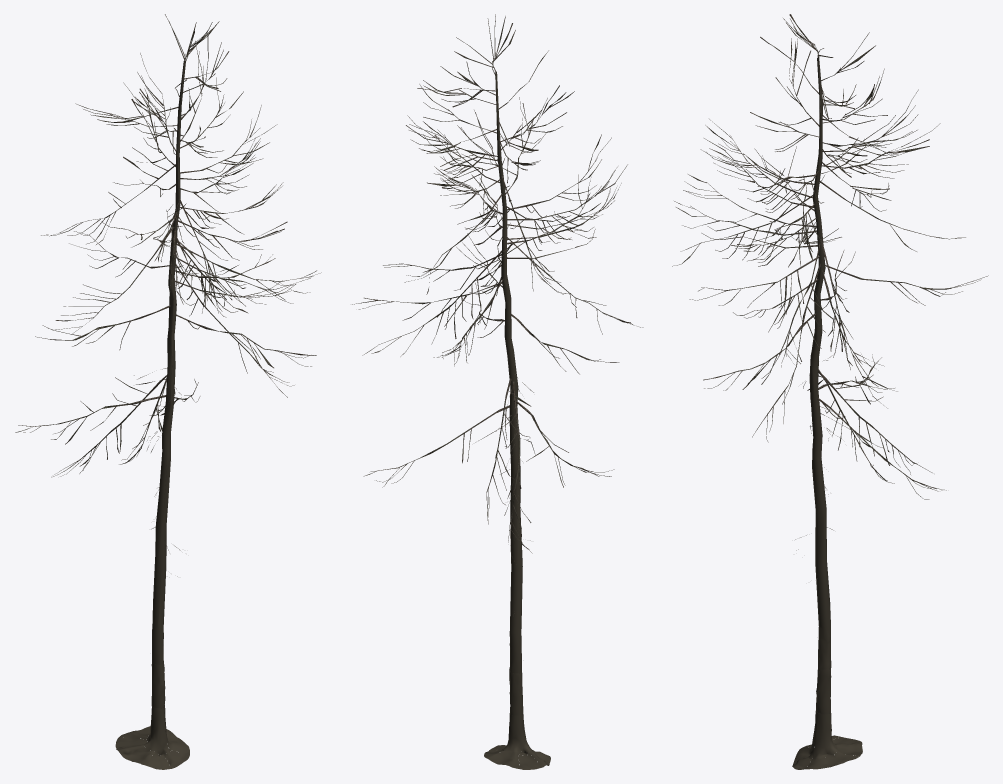
File: mature_fir.glb
3 renders of one model, left to right at view 1: azimuth 30°, elevation 25°; view 2: azimuth 150°, elevation 25°; view 3: azimuth 270°, elevation 25°, orthographic. The views are drawn at different scales.
Parts seen in each view (by area): view 1: fir_tree_01_c_LOD0; view 2: fir_tree_01_c_LOD0; view 3: fir_tree_01_c_LOD0.
Part boxes in pixels (x1,y1,x2,y2): fir_tree_01_c_LOD0: (15, 14, 321, 769); fir_tree_01_c_LOD0: (352, 14, 643, 769); fir_tree_01_c_LOD0: (672, 14, 988, 769).
Size of the model in its own units: 5.44 by 14.19 by 5.32.
3 materials, 3 textured.
